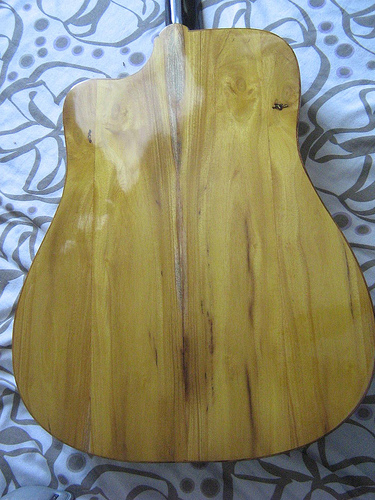guitar: (10, 1, 375, 467)
